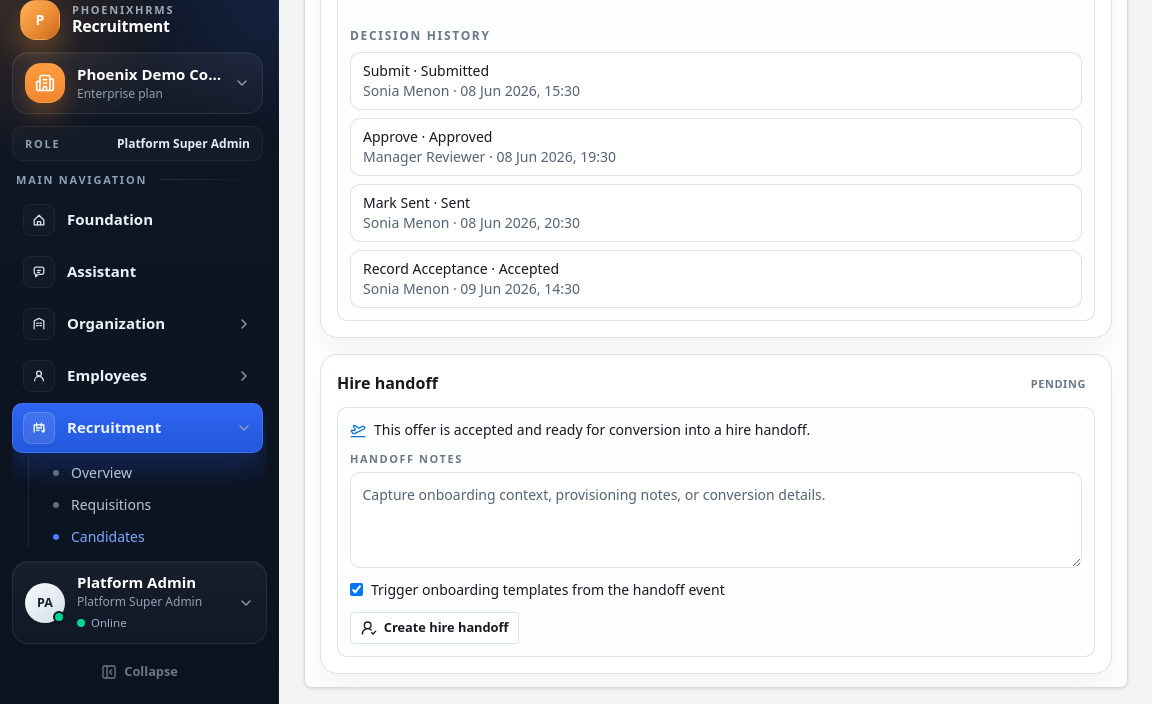
Test: RecruitmentCandidateDetailPage › lets a recruiter convert an accepted offer into a hire handoff in demo mode
(page scrolled)
Expected: the text "This offer is accepted and ready for conversion into a hire handoff" is shown, [374,420,810,440]
In the text box labelled "Handoff notes": (716, 520) [350,472,1082,568], type "Launch onboarding immediately."
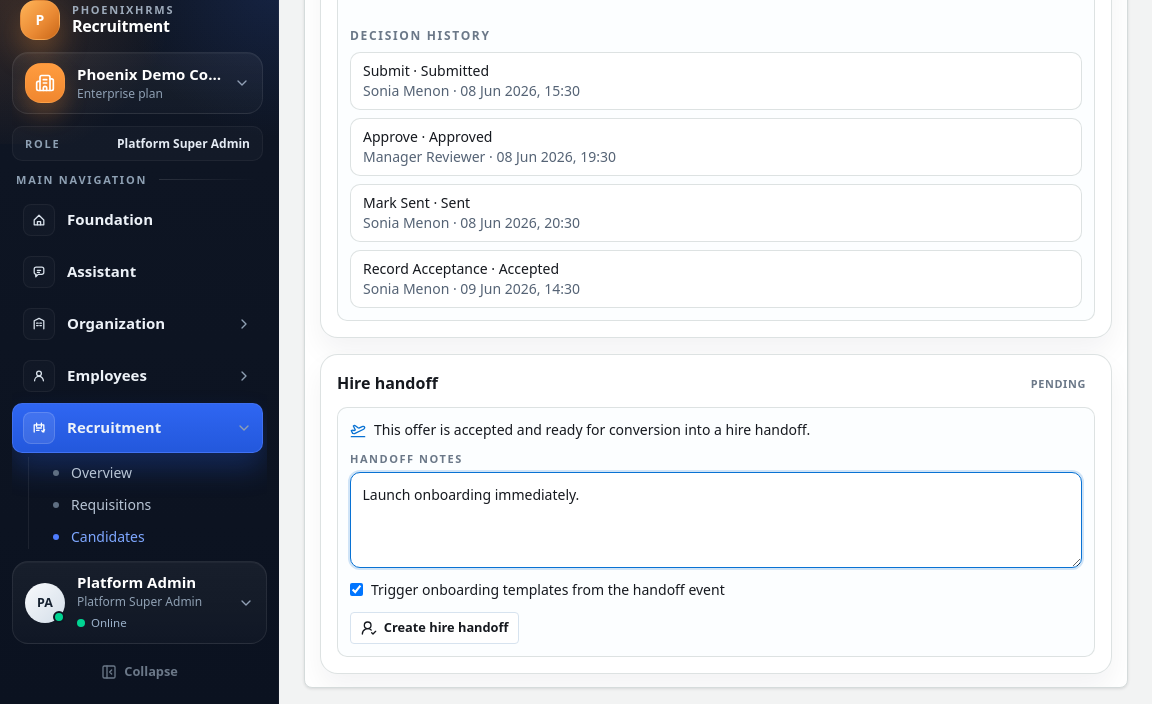
Click the button "Create hire handoff": (434, 628) [350,612,519,644]
(page scrolled)
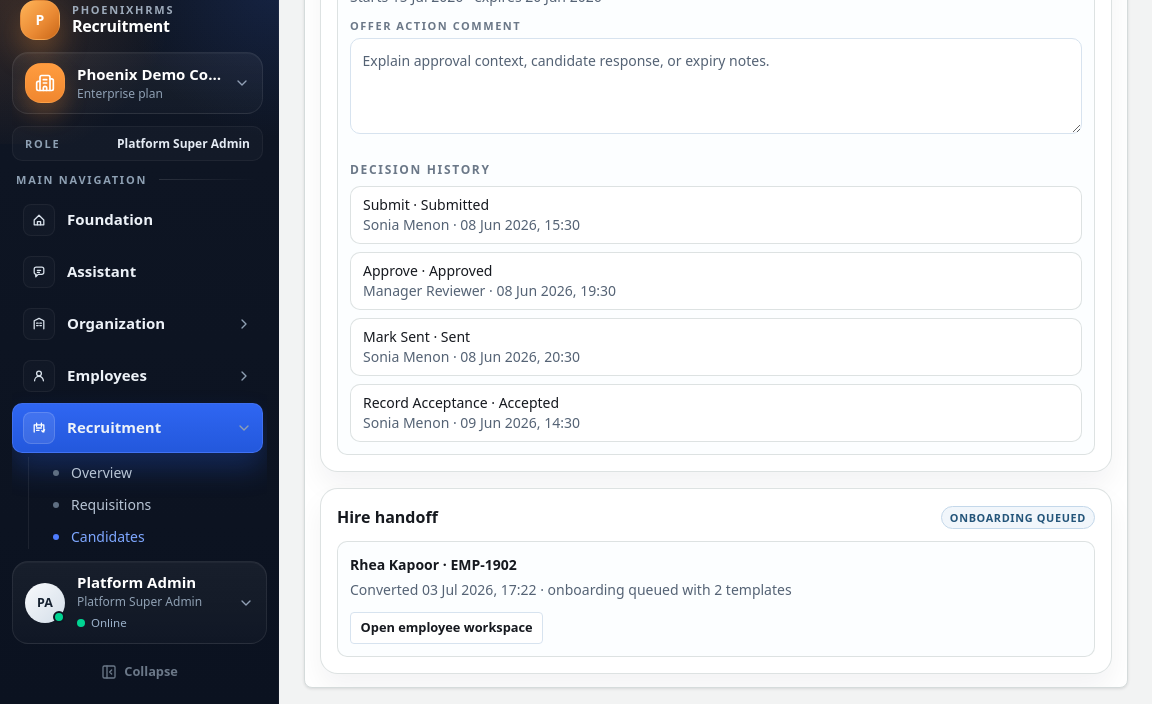
Expected: the link "Open employee workspace" is shown, [350,612,543,644]
